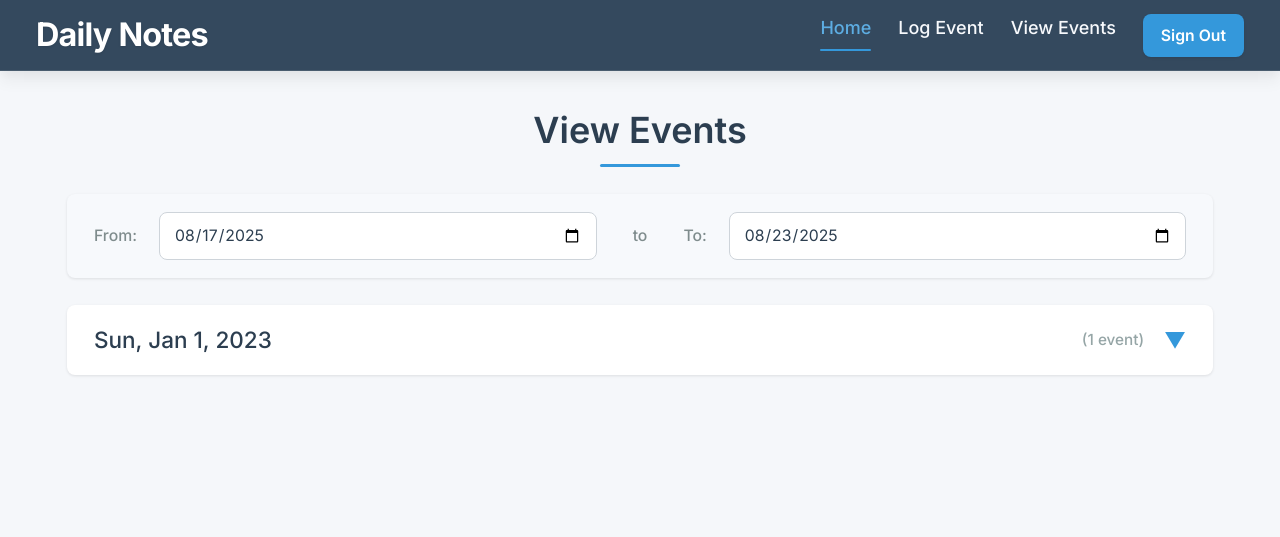
Test: renders list with correct accessibility roles
Expand all day groups
Click the button "Sun, Jan 1, 2023 (1 event) ▼" at (183, 340), box left=67, top=305, right=1213, bottom=375
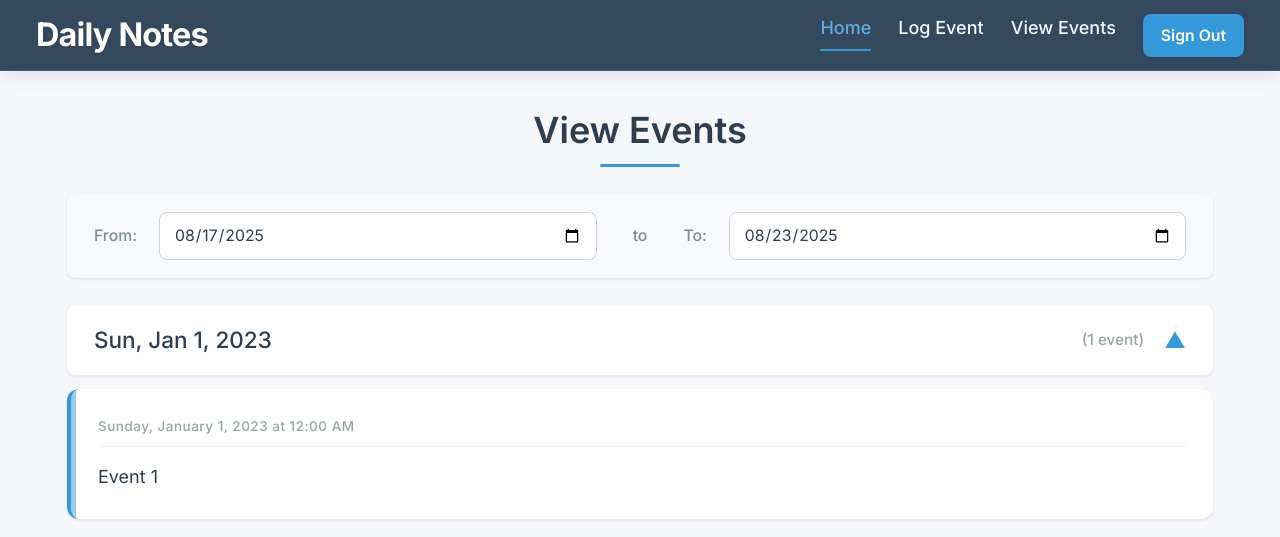
Now the list item with test id "event-item-1" is shown, box left=67, top=389, right=1213, bottom=519
